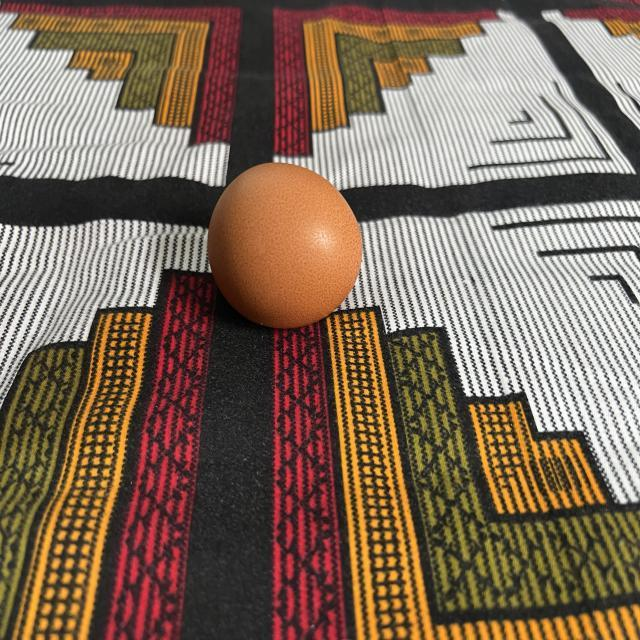egg: (204, 156, 365, 336)
